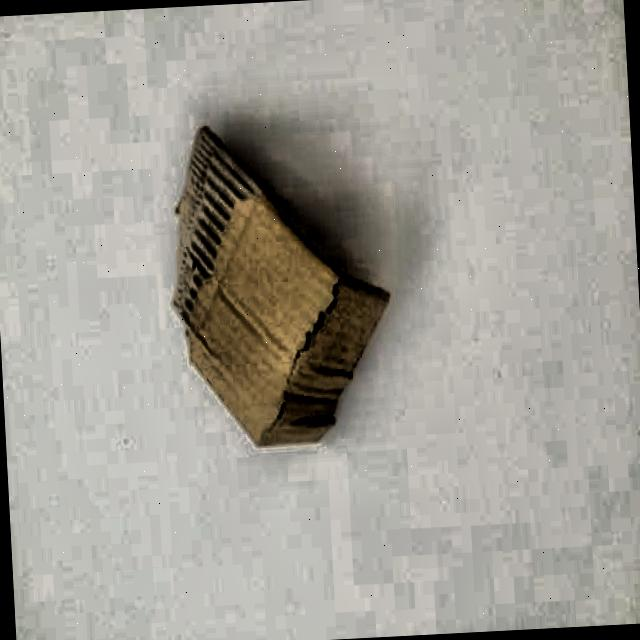cardboard: (158, 111, 404, 458)
